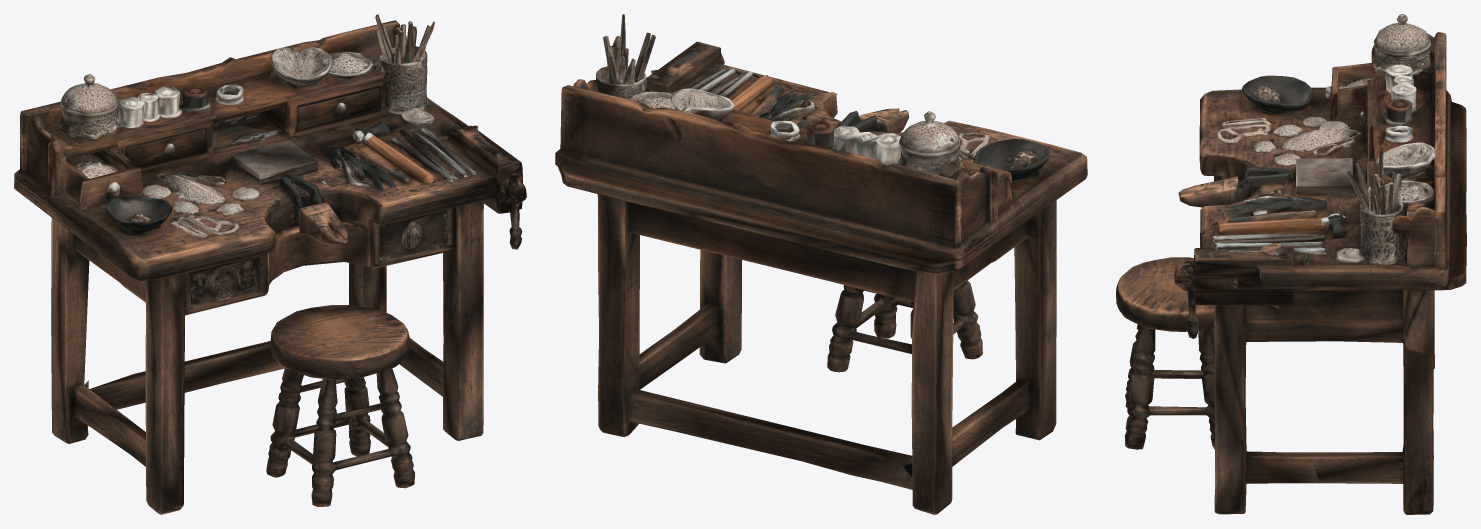
Rendered from city_mardin_telkari_bench.glb.
The picture shows the model from 3 angles, left to right: view 1: azimuth 30°, elevation 25°; view 2: azimuth 150°, elevation 25°; view 3: azimuth 270°, elevation 25°; orthographic projection. The views are drawn at different scales.
Visible parts, largest first — view 1: Mesh1.0; view 2: Mesh1.0; view 3: Mesh1.0.
Boxes of the visible parts, x1=… form: Mesh1.0: x1=14, y1=14, x2=526, y2=514; Mesh1.0: x1=555, y1=14, x2=1087, y2=514; Mesh1.0: x1=1116, y1=14, x2=1466, y2=514.
Size of the model in its own units: 2.43 by 2.2 by 1.95.
1 material, 1 textured.
